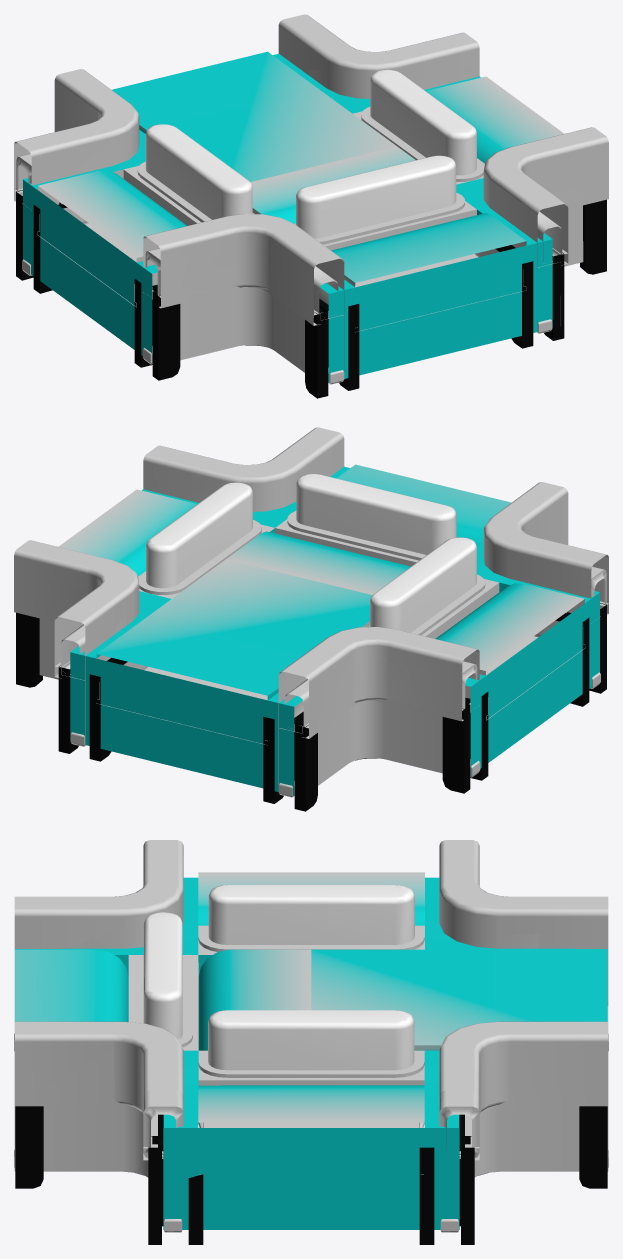
File: Merger3To1InternalVariant.gltf
3 renders of one model, top to bottom at view 1: azimuth 30°, elevation 25°; view 2: azimuth 150°, elevation 25°; view 3: azimuth 270°, elevation 25°, orthographic. The views are drawn at different scales.
Visible parts, largest first — view 1: Merger_3to1Border_Height0_LOD0, Merger_3to1_Belt_LOD0, Merger_3to1Border_Height1_LOD0, Merger_3to1Border_Height2_LOD0, Merger_Default_Stopper_LOD0.002, Merger_Default_Stopper_LOD0.001, Merger_Default_Stopper_LOD0.003; view 2: Merger_3to1Border_Height0_LOD0, Merger_3to1_Belt_LOD0, Merger_3to1Border_Height1_LOD0, Merger_3to1Border_Height2_LOD0, Merger_Default_Stopper_LOD0.002, Merger_Default_Stopper_LOD0.001, Merger_Default_Stopper_LOD0.003; view 3: Merger_3to1Border_Height0_LOD0, Merger_3to1_Belt_LOD0, Merger_3to1Border_Height1_LOD0, Merger_Default_Stopper_LOD0.001, Merger_Default_Stopper_LOD0.003, Merger_3to1Border_Height2_LOD0, Merger_Default_Stopper_LOD0.002.
Part boxes in pixels (<box>): Merger_3to1Border_Height0_LOD0: <box>14,14,608,382</box>; Merger_3to1_Belt_LOD0: <box>23,51,564,293</box>; Merger_3to1Border_Height1_LOD0: <box>14,20,608,398</box>; Merger_3to1Border_Height2_LOD0: <box>16,64,591,332</box>; Merger_Default_Stopper_LOD0.002: <box>296,155,456,238</box>; Merger_Default_Stopper_LOD0.001: <box>370,69,476,175</box>; Merger_Default_Stopper_LOD0.003: <box>145,124,252,219</box>; Merger_3to1Border_Height0_LOD0: <box>14,427,608,795</box>; Merger_3to1_Belt_LOD0: <box>58,464,599,706</box>; Merger_3to1Border_Height1_LOD0: <box>16,433,608,811</box>; Merger_3to1Border_Height2_LOD0: <box>31,477,606,745</box>; Merger_Default_Stopper_LOD0.002: <box>296,474,456,554</box>; Merger_Default_Stopper_LOD0.001: <box>146,482,252,588</box>; Merger_Default_Stopper_LOD0.003: <box>370,537,476,632</box>; Merger_3to1Border_Height0_LOD0: <box>14,840,608,1229</box>; Merger_3to1_Belt_LOD0: <box>14,872,607,1127</box>; Merger_3to1Border_Height1_LOD0: <box>14,840,608,1244</box>; Merger_Default_Stopper_LOD0.001: <box>208,1010,414,1070</box>; Merger_Default_Stopper_LOD0.003: <box>208,885,414,944</box>; Merger_3to1Border_Height2_LOD0: <box>83,934,608,1174</box>; Merger_Default_Stopper_LOD0.002: <box>143,912,182,1039</box>.
Size of the model in its own units: 1 by 0.3093 by 1.
